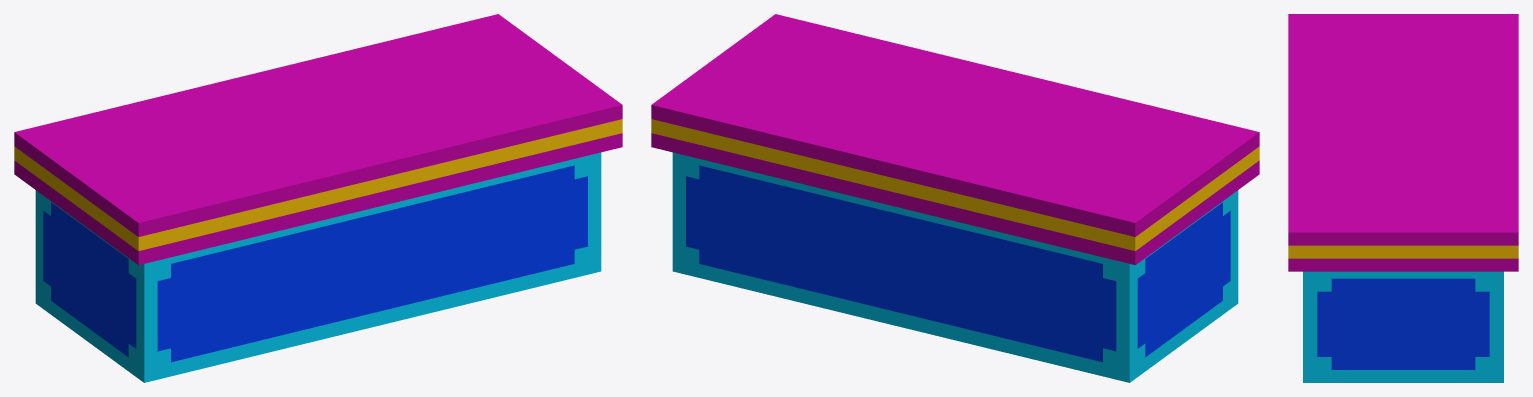
The model's file is wall_2x1_2.obj.
3 views of the same model, side by side, from view 1: azimuth 30°, elevation 25°; view 2: azimuth 150°, elevation 25°; view 3: azimuth 270°, elevation 25° (orthographic). The views are drawn at different scales.
Bounding box in the file's own units: 3.6 × 1.2 × 1.6.
1 material, 1 textured.
